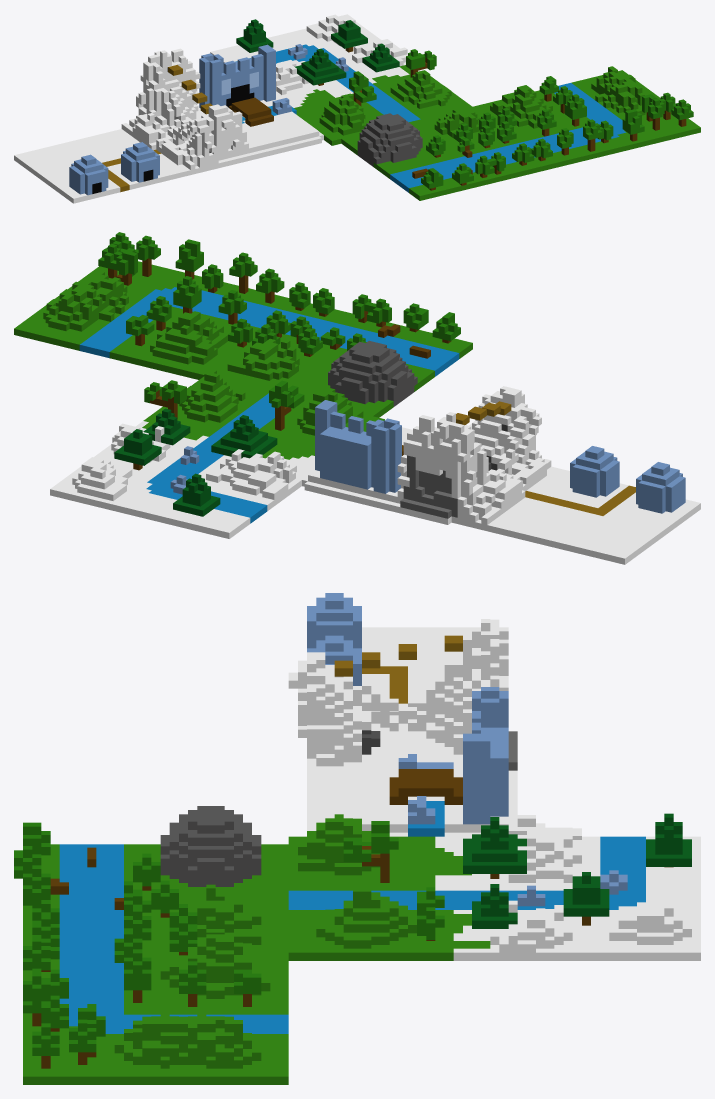
Rendered from World Ice part 7.gltf.
3 views of the same model, one above another, from view 1: azimuth 30°, elevation 25°; view 2: azimuth 150°, elevation 25°; view 3: azimuth 270°, elevation 25° (orthographic). The views are drawn at different scales.
Visible parts, largest first — view 1: Layer.6, Layer.2, Layer.5, Layer.1, Layer.4, Layer.3; view 2: Layer.5, Layer.2, Layer.6, Layer.1, Layer.3, Layer.4; view 3: Layer.5, Layer.1, Layer.6, Layer.4, Layer.3, Layer.2.
Part boxes in pixels (box(x1,y1,x2,y2)): Layer.6: box(341, 104, 560, 200); Layer.2: box(14, 55, 211, 203); Layer.5: box(482, 66, 700, 166); Layer.1: box(153, 44, 323, 170); Layer.4: box(276, 43, 472, 145); Layer.3: box(210, 14, 407, 96); Layer.5: box(14, 232, 289, 378); Layer.2: box(451, 407, 700, 564); Layer.6: box(193, 282, 472, 417); Layer.1: box(302, 386, 527, 524); Layer.3: box(50, 423, 307, 538); Layer.4: box(136, 369, 384, 483); Layer.5: box(23, 926, 288, 1084); Layer.1: box(288, 619, 517, 836); Layer.6: box(14, 806, 288, 960); Layer.4: box(288, 814, 572, 960); Layer.3: box(490, 813, 700, 960); Layer.2: box(307, 593, 499, 731).
Bounding box in the file's own units: 116 × 16 × 75.
Materials: 1 (1 with a texture image).
